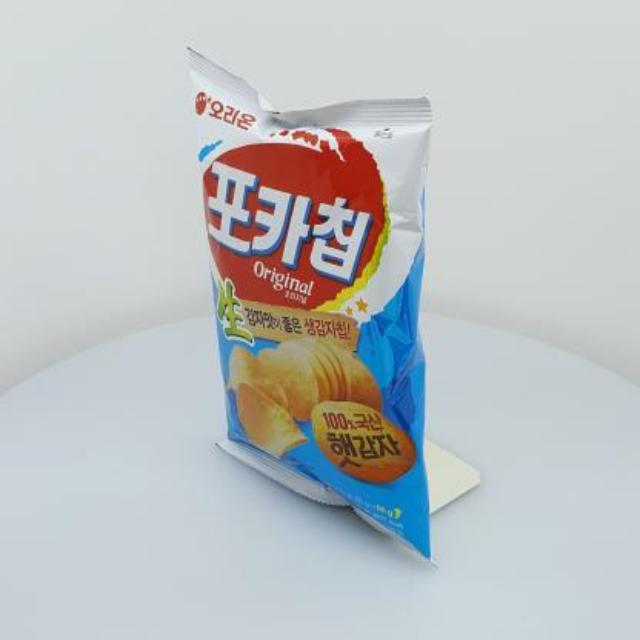snack_bag: (148, 31, 474, 580)
